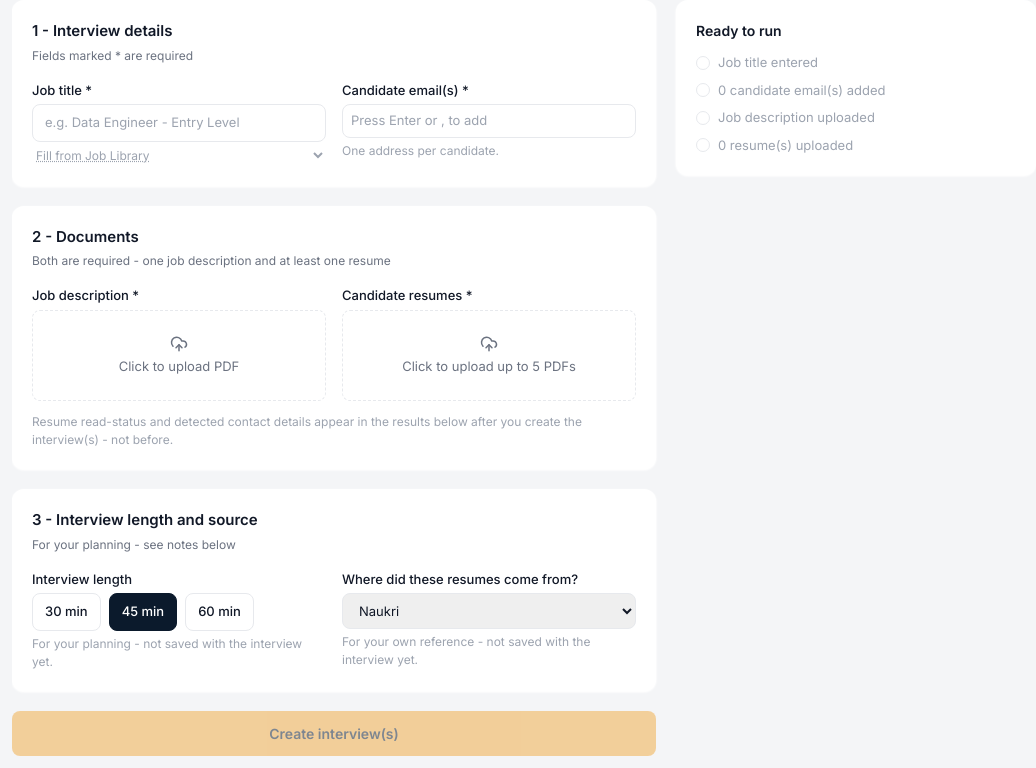
Test case: InterviewsView (New Interview) › Fill from Job Library actually fills the job title field with a real listing
Expected: the field with placeholder "e.g. Data Engineer - Entry Level" is empty, [32,104,326,142]
Select "Senior QA Analyst" in the dropdown named "fill job title from job library" at x=179, y=155, box [32,146,326,164]
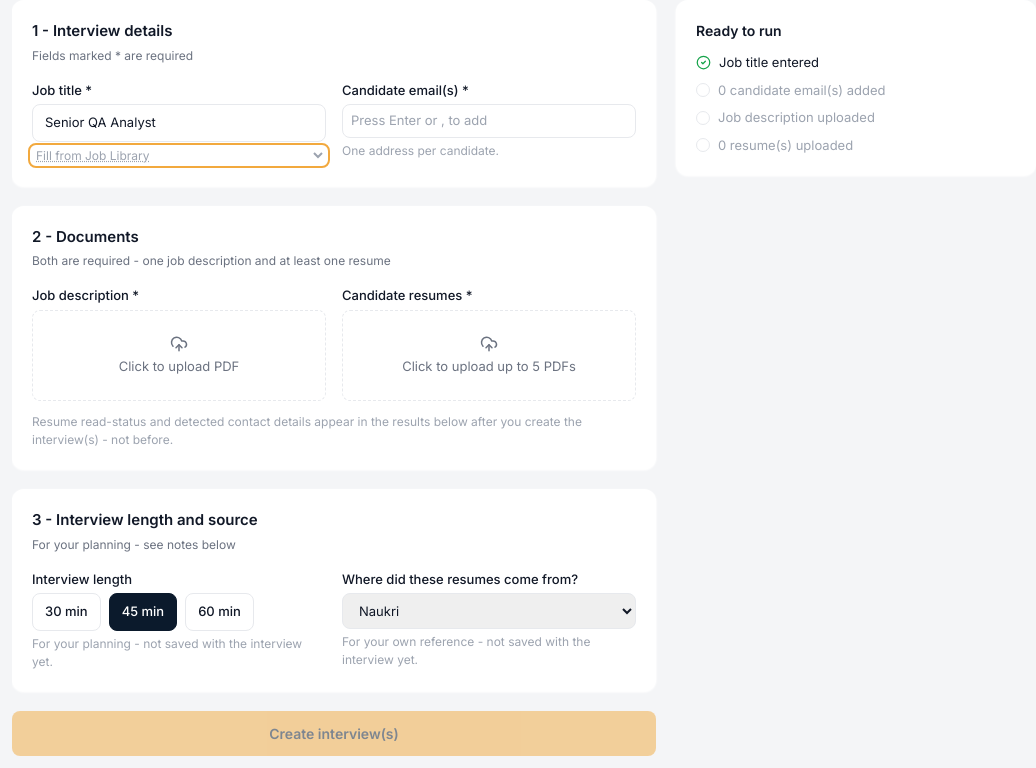
Result: the field with placeholder "e.g. Data Engineer - Entry Level" holds "Senior QA Analyst" at [32,104,326,142]
